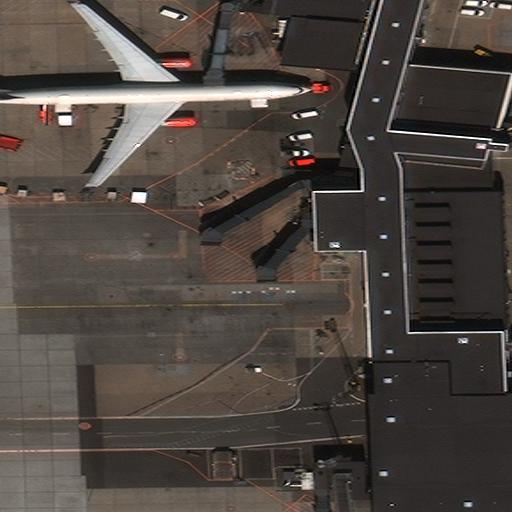Large Civil Transport: (0, 3, 316, 189)
